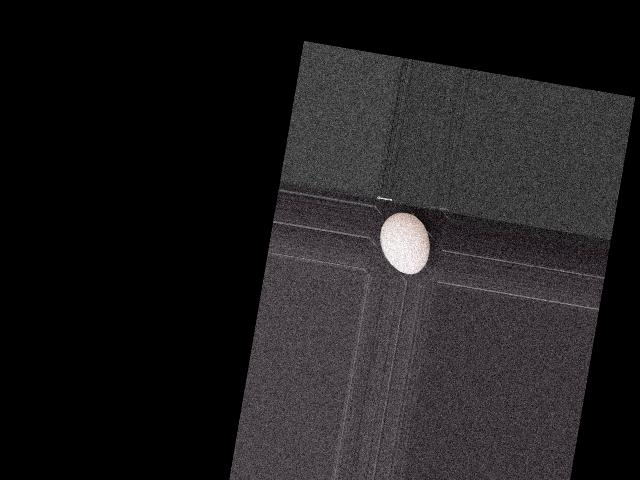egg: (374, 209, 435, 276)
